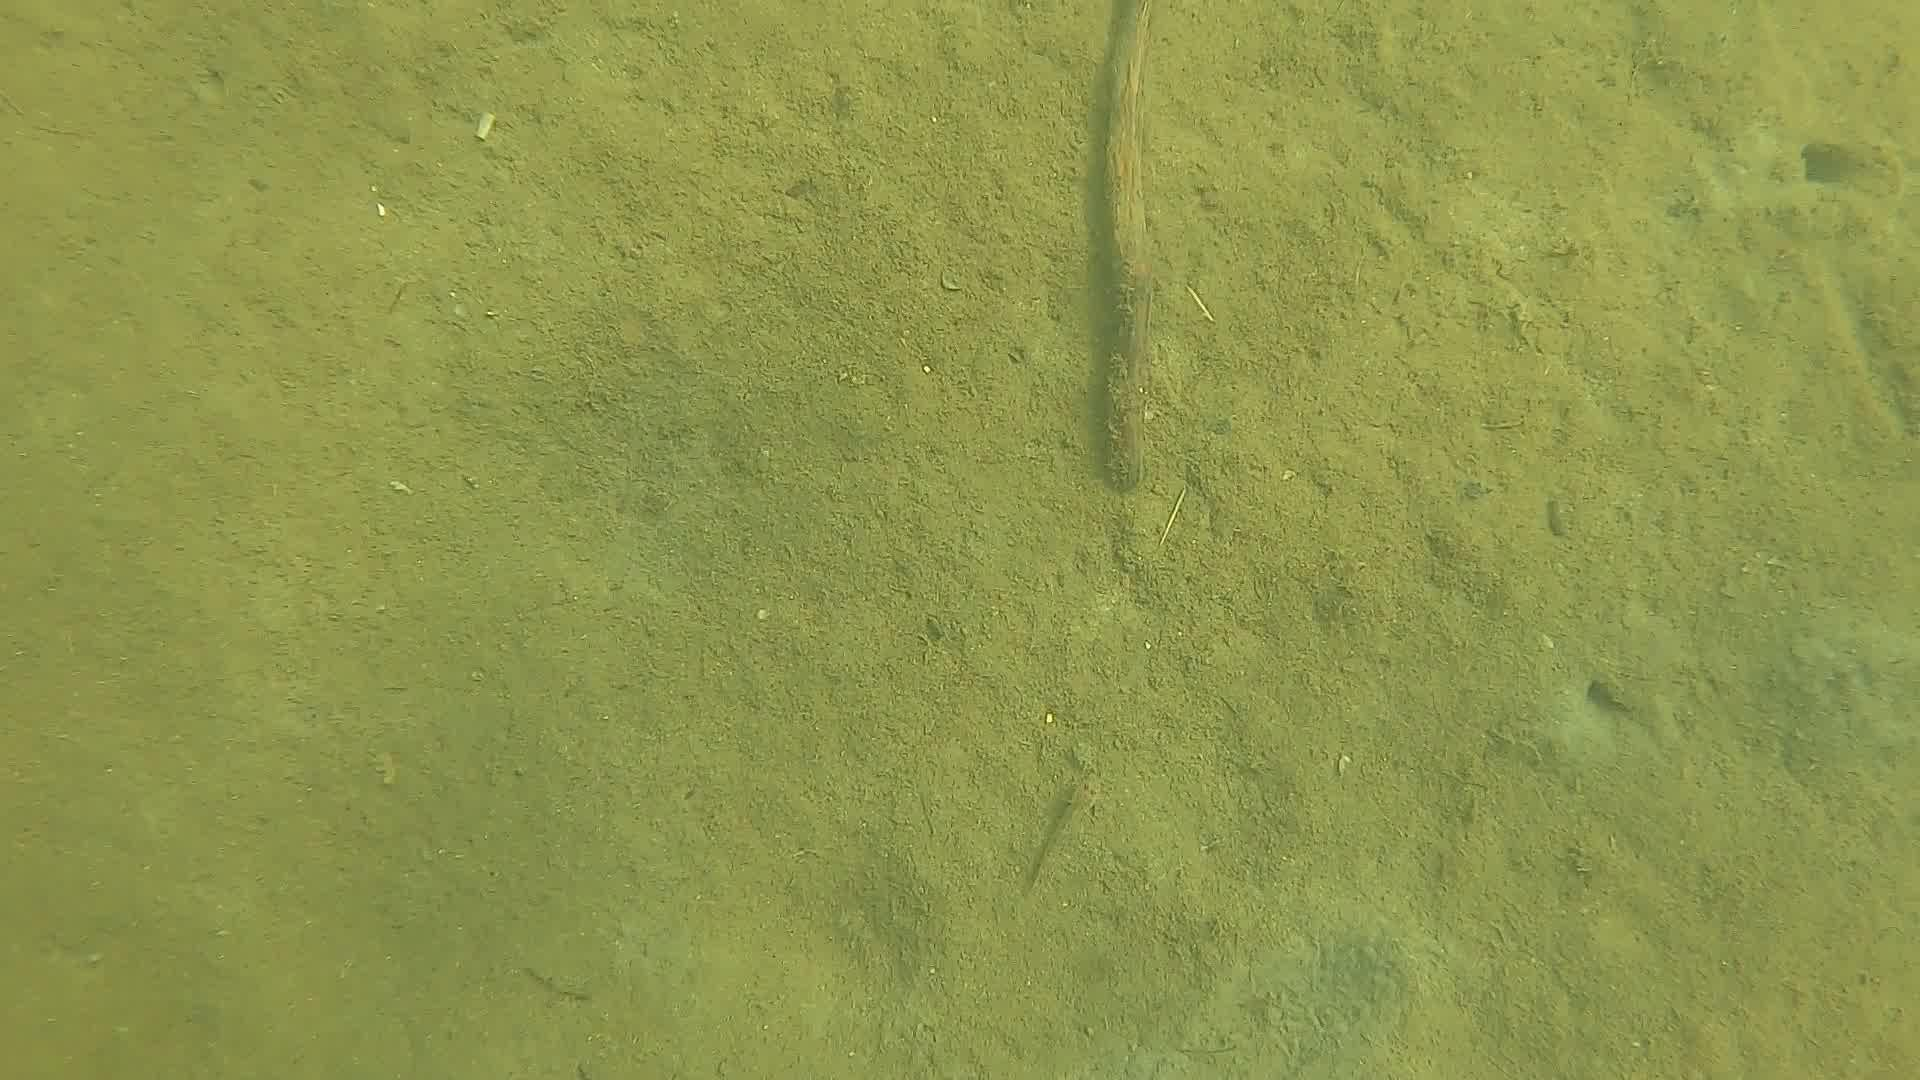wood: (1098, 0, 1153, 495)
